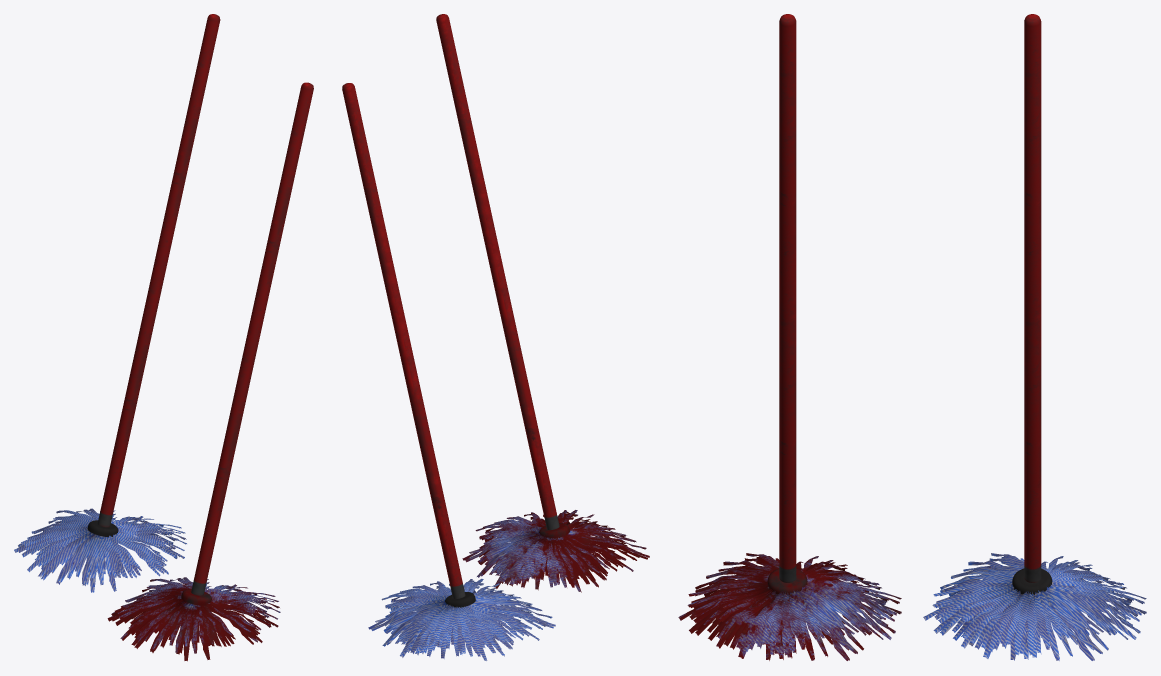
The model's file is pair_of_mops.glb.
The picture shows the model from 3 angles, left to right: view 1: azimuth 30°, elevation 25°; view 2: azimuth 150°, elevation 25°; view 3: azimuth 270°, elevation 25°; orthographic projection. The views are drawn at different scales.
Parts seen in each view (by area): view 1: SM_Mop_1_2, SM_Mop_1.002_4, SM_Mop_1.001_3, SM_Mop_1.003_5; view 2: SM_Mop_1_2, SM_Mop_1.002_4, SM_Mop_1.001_3, SM_Mop_1.003_5; view 3: SM_Mop_1_2, SM_Mop_1.002_4, SM_Mop_1.003_5, SM_Mop_1.001_3.
Boxes of the visible parts, x1,y1,x2,y2 form: SM_Mop_1_2: (14, 508, 186, 592); SM_Mop_1.002_4: (107, 577, 280, 661); SM_Mop_1.001_3: (87, 14, 220, 537); SM_Mop_1.003_5: (181, 82, 313, 605); SM_Mop_1_2: (368, 578, 555, 660); SM_Mop_1.002_4: (462, 510, 649, 592); SM_Mop_1.001_3: (342, 83, 475, 607); SM_Mop_1.003_5: (436, 14, 569, 539); SM_Mop_1_2: (923, 553, 1146, 660); SM_Mop_1.002_4: (678, 553, 901, 660); SM_Mop_1.003_5: (767, 14, 807, 594); SM_Mop_1.001_3: (1012, 14, 1052, 594).
Size of the model in its own units: 0.6164 by 1.56 by 0.9732.
2 materials, 2 textured.
